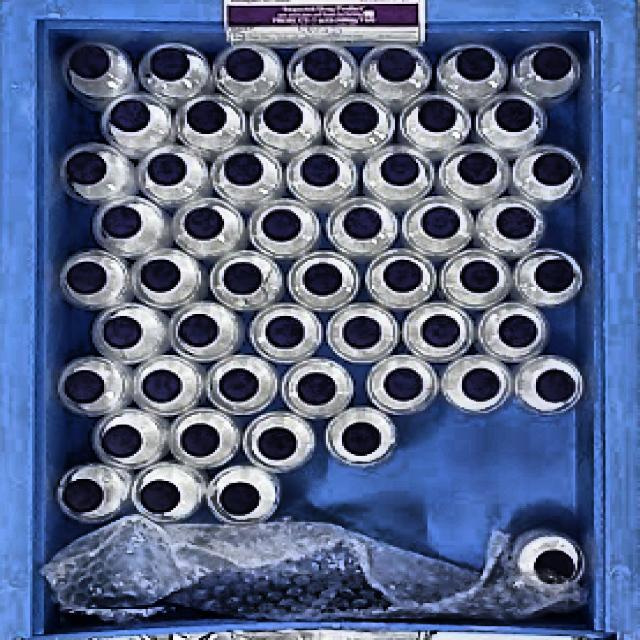vial: (524, 539, 582, 587), (291, 369, 348, 410), (334, 415, 385, 460), (376, 256, 434, 294), (530, 366, 582, 406), (137, 479, 190, 518), (59, 367, 110, 407), (493, 314, 548, 351), (334, 316, 390, 352), (214, 479, 264, 519), (137, 259, 190, 296), (255, 423, 302, 464), (215, 368, 268, 404), (419, 312, 466, 352), (177, 422, 225, 461), (135, 368, 187, 404), (526, 258, 572, 298), (100, 314, 148, 352), (454, 369, 508, 402), (457, 258, 505, 295), (59, 481, 108, 516), (65, 46, 114, 80), (148, 46, 194, 82), (186, 100, 233, 135), (98, 426, 146, 460), (256, 314, 307, 346), (257, 99, 305, 133), (382, 367, 427, 403), (219, 153, 268, 186), (301, 261, 348, 295), (66, 262, 110, 298), (494, 206, 538, 242), (222, 262, 268, 296), (338, 101, 380, 137), (223, 46, 266, 81), (99, 206, 146, 238), (456, 151, 499, 185), (493, 100, 538, 132), (181, 210, 229, 240), (298, 155, 339, 190), (416, 101, 460, 133), (64, 155, 109, 186), (301, 48, 342, 82), (455, 48, 496, 82), (179, 314, 222, 346), (378, 49, 416, 85), (422, 203, 462, 237), (533, 153, 572, 187), (148, 155, 192, 185), (535, 46, 576, 78), (382, 154, 421, 187), (110, 100, 150, 132), (260, 210, 304, 238), (342, 206, 383, 236)
